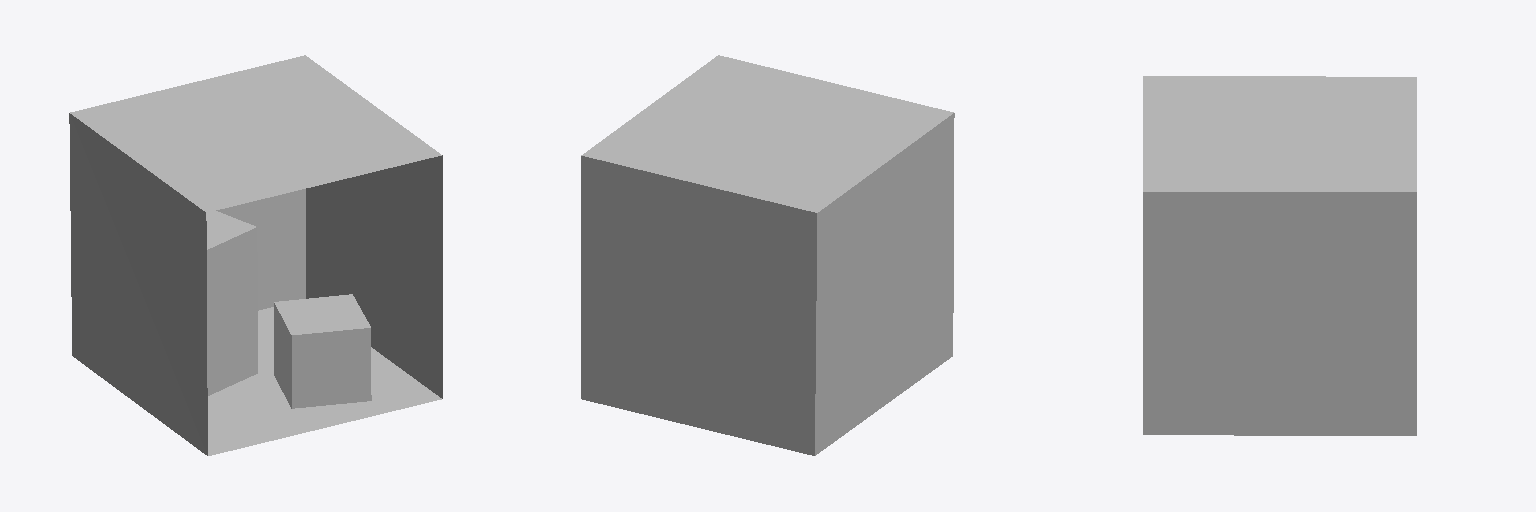
Rendered from cornell-box.obj.
The picture shows the model from 3 angles: view 1: azimuth 30°, elevation 25°; view 2: azimuth 150°, elevation 25°; view 3: azimuth 270°, elevation 25°; orthographic projection.
Parts seen in each view (by area): view 1: left_wall, ceiling, right_wall, floor, short_box, tall_box_front, back_wall, tall_box; view 2: back_wall, left_wall, ceiling; view 3: right_wall, ceiling.
Boxes of the visible parts, x1=… form: left_wall: x1=69, y1=113, x2=207, y2=455; ceiling: x1=70, y1=55, x2=441, y2=212; right_wall: x1=306, y1=155, x2=442, y2=398; floor: x1=208, y1=307, x2=441, y2=455; short_box: x1=274, y1=294, x2=371, y2=408; tall_box_front: x1=207, y1=227, x2=257, y2=395; back_wall: x1=216, y1=189, x2=305, y2=310; tall_box: x1=206, y1=211, x2=255, y2=249; back_wall: x1=581, y1=156, x2=816, y2=455; left_wall: x1=815, y1=113, x2=954, y2=455; ceiling: x1=581, y1=55, x2=953, y2=212; right_wall: x1=1143, y1=192, x2=1416, y2=435; ceiling: x1=1143, y1=76, x2=1416, y2=191.
Size of the model in its own units: 5.56 by 5.49 by 5.6.